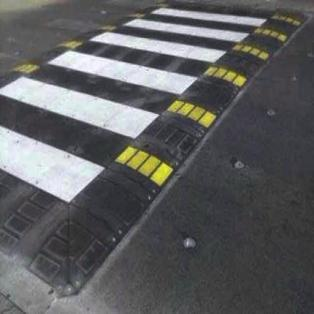Paso de Cebra: (1, 36, 201, 142)
